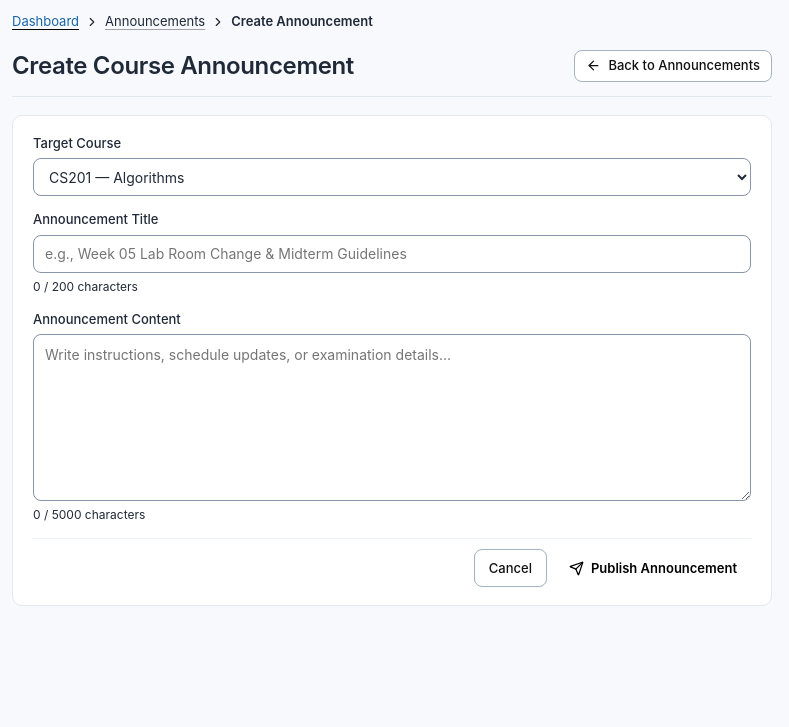
it: I06: Instructor Communication Module › validates and publishes an announcement on InstructorCreateAnnouncementPage
The image size is (789, 727).
Step 1. Click the button "Publish Announcement" → {"x": 653, "y": 568}, box [555,549,751,587]
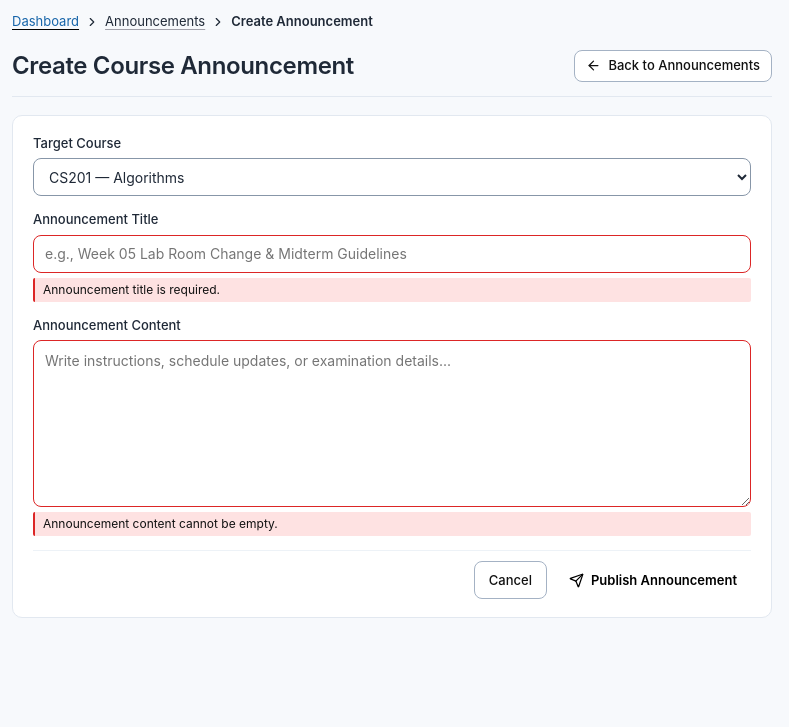
Now the text "Announcement title is required." is shown, box [33,278,751,302]
Now the text "Announcement content cannot be empty." is shown, box [33,512,751,536]
Step 2. Type "Final Exam Room" into the field labelled "Announcement Title" → {"x": 392, "y": 254}, box [33,234,751,272]
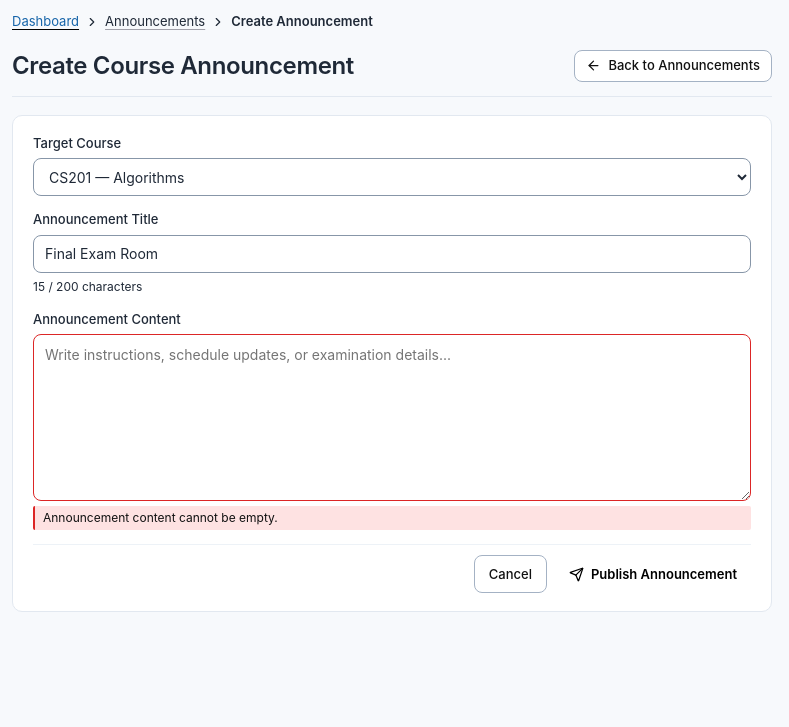
Step 3. Replace the text in the text box labelled "Announcement Content" with "Final exam is in Hall A." → {"x": 392, "y": 418}, box [33,334,751,501]
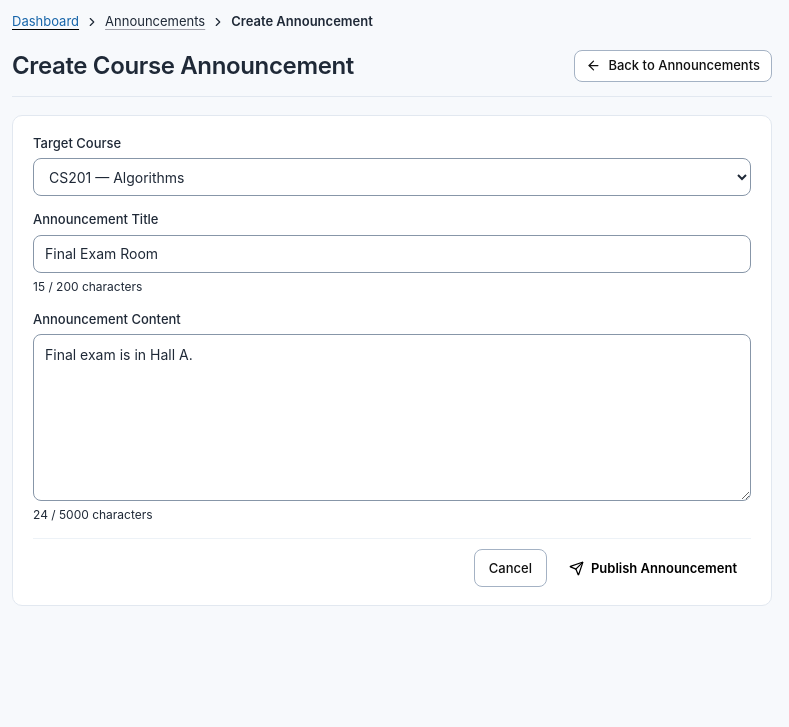
Step 4. Click the button "Publish Announcement" → {"x": 653, "y": 568}, box [555,549,751,587]
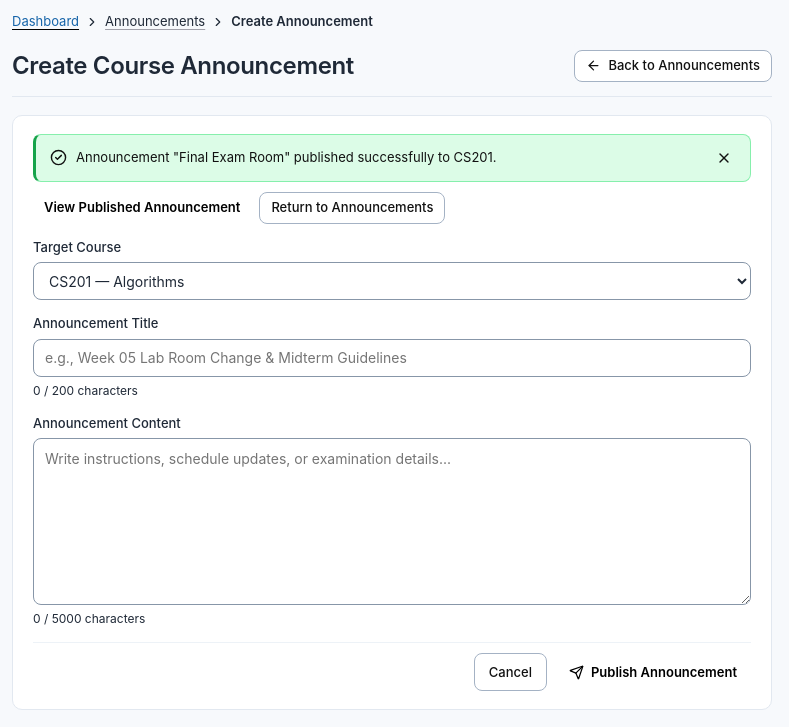
Now the text "published successfully" is shown, box [76,149,497,165]
